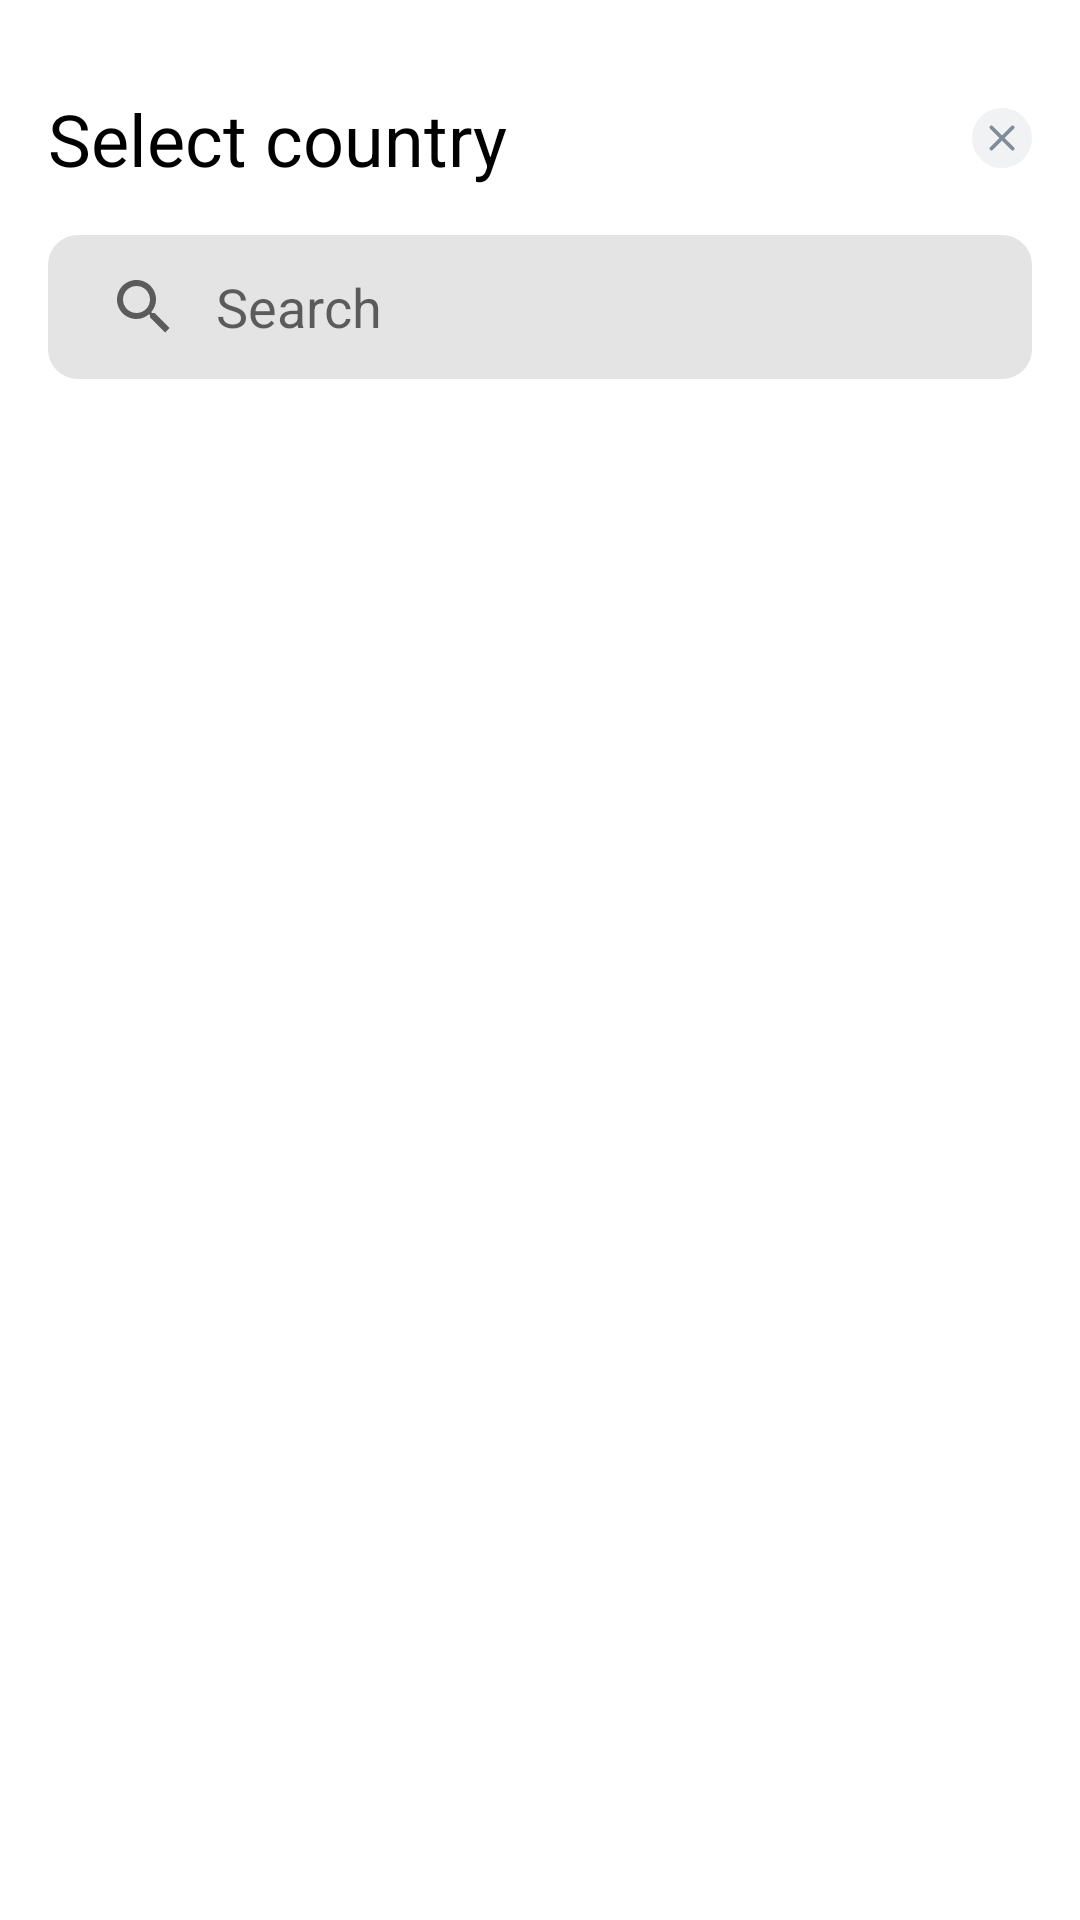

Locate icon controls on the screen. Image size 1080×1920, boxes as (x1, y1, x2, y2).
close round: (972, 108, 1032, 168)
